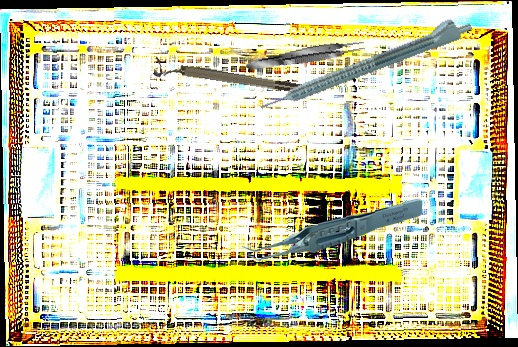Fixation Ring: (152, 55, 303, 103)
Handpiece: (254, 10, 475, 115)
Tissue Forceps: (240, 196, 424, 262), (244, 36, 366, 75)
